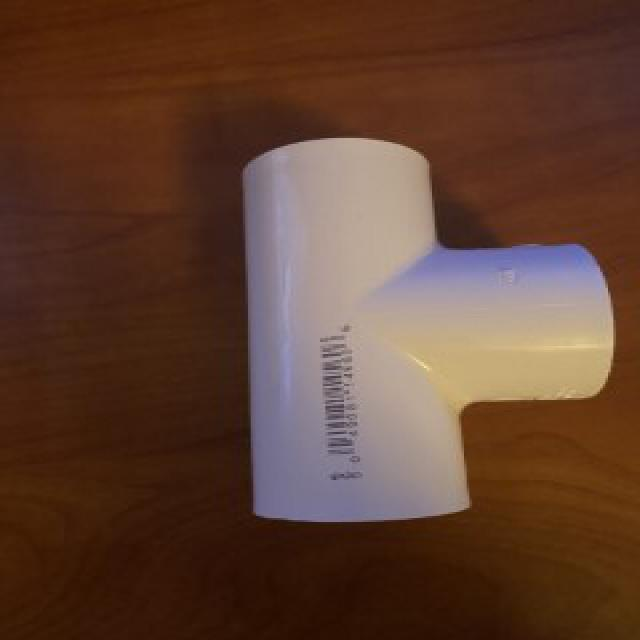T Joint: (241, 138, 614, 526)
